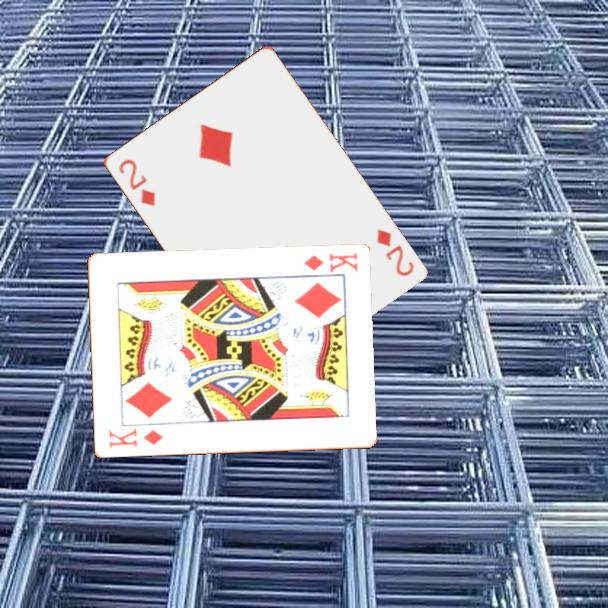d02: (372, 225, 417, 279), (114, 155, 158, 209)
d13: (300, 249, 361, 276), (105, 425, 166, 451)
